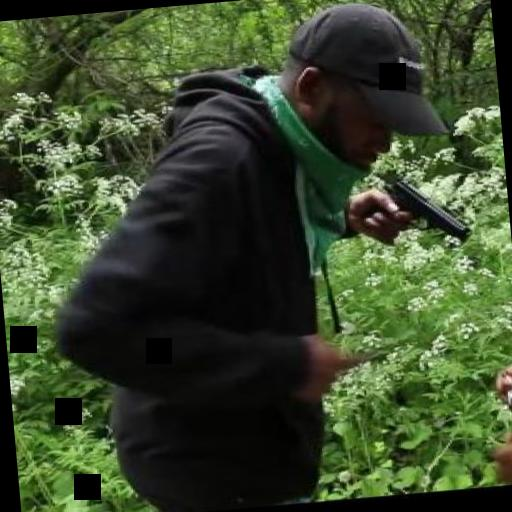Handgun: (367, 170, 469, 248)
